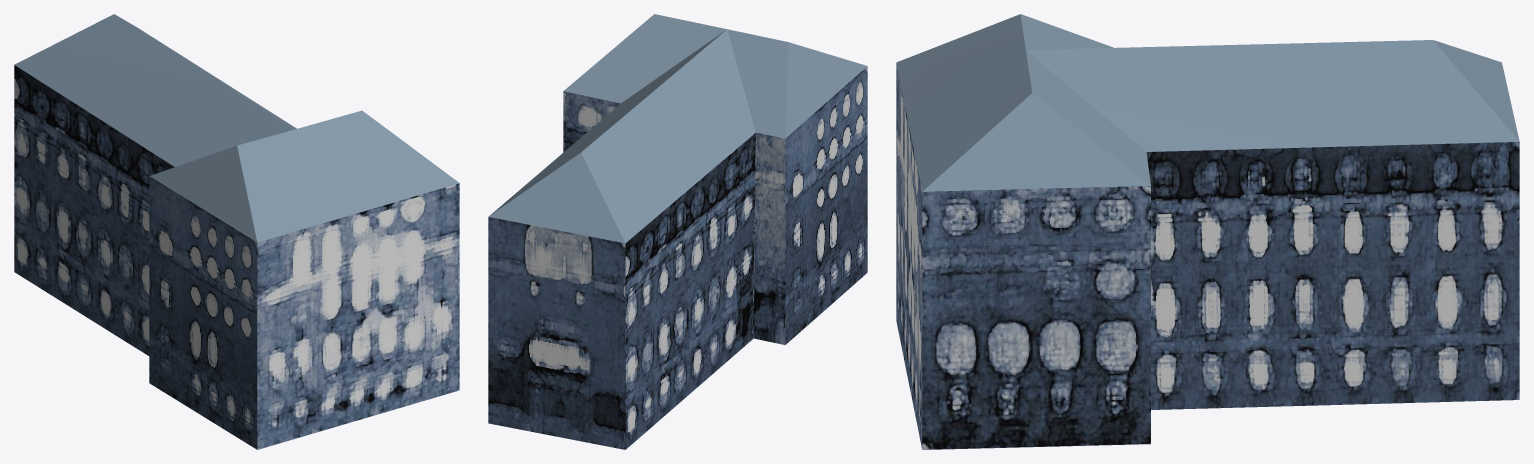
The model's file is Koenig-Bau.gltf.
3 views of the same model, side by side, from view 1: azimuth 30°, elevation 25°; view 2: azimuth 150°, elevation 25°; view 3: azimuth 270°, elevation 25° (orthographic). The views are drawn at different scales.
Parts seen in each view (by area): view 1: Dach.1; view 2: Dach.1; view 3: Dach.1.
Boxes of the visible parts, <box> form: Dach.1: <box>14,14,459,449</box>; Dach.1: <box>488,14,867,449</box>; Dach.1: <box>896,14,1519,449</box>.
Size of the model in its own units: 22.34 by 24.68 by 42.94.
Materials: 9 (8 with a texture image).
